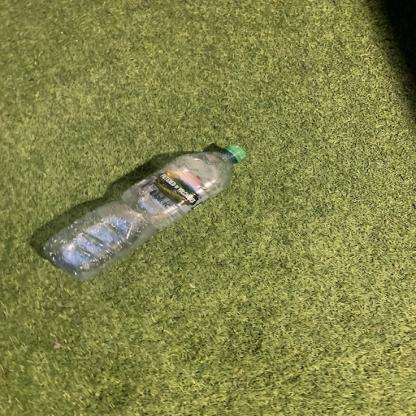trash: (40, 143, 248, 280)
